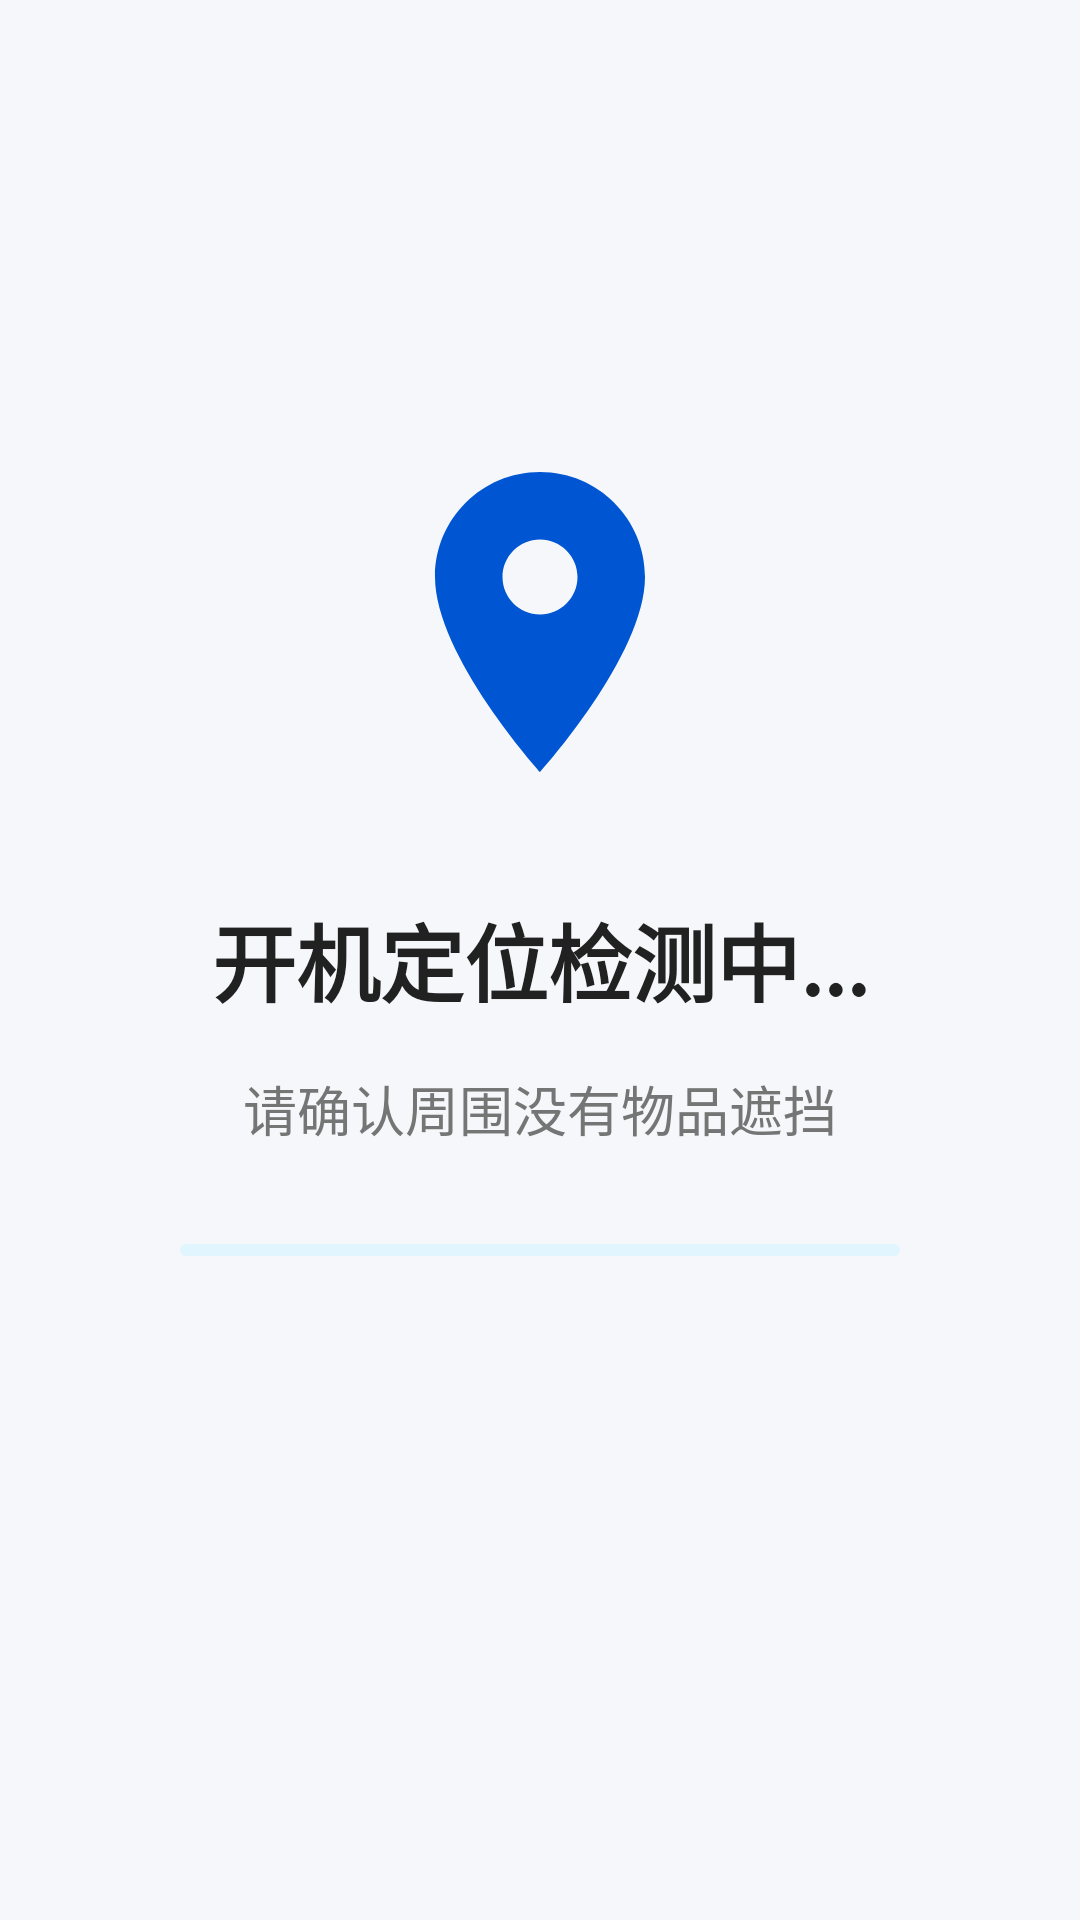

Icon click points for this 1080x1920 phone screenshot, format point (x, y):
Locating Icon: point (539, 622)
